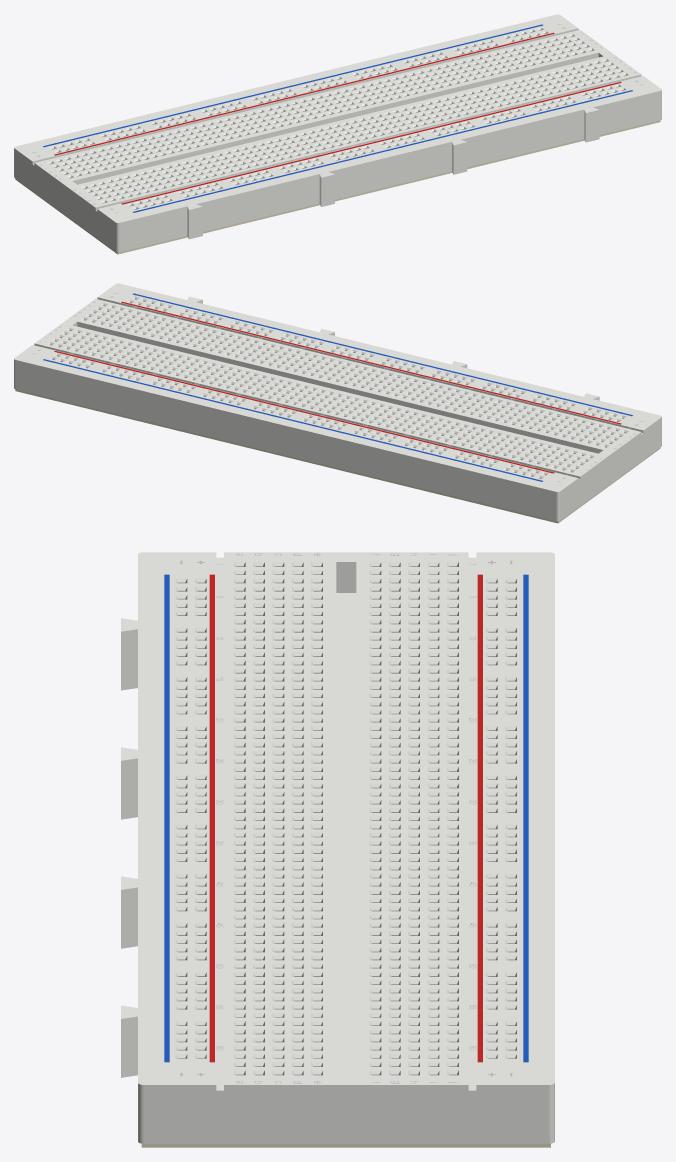
The model's file is breadboard-830.glb.
3 renders of one model, top to bottom at view 1: azimuth 30°, elevation 25°; view 2: azimuth 150°, elevation 25°; view 3: azimuth 270°, elevation 25°, orthographic. The views are drawn at different scales.
Parts seen in each view (by area): view 1: breadboard_body, clips, adhesive, stripe_bot_minus, stripe_top_minus, stripe_top_plus, stripe_bot_plus; view 2: breadboard_body, clips, adhesive, stripe_top_minus, stripe_top_plus, stripe_bot_plus, stripe_bot_minus; view 3: breadboard_body, clips, stripe_top_minus, stripe_bot_minus, stripe_top_plus, stripe_bot_plus, adhesive, print_labels.
Part boxes in pixels (left/top/right/bottom): breadboard_body: left=14, top=14, right=661, bottom=252; clips: left=50, top=30, right=625, bottom=209; adhesive: left=15, top=120, right=660, bottom=254; stripe_bot_minus: left=133, top=90, right=632, bottom=212; stripe_top_minus: left=43, top=24, right=543, bottom=147; stripe_top_plus: left=54, top=32, right=554, bottom=155; stripe_bot_plus: left=121, top=82, right=621, bottom=204; breadboard_body: left=14, top=283, right=661, bottom=521; clips: left=50, top=299, right=625, bottom=478; adhesive: left=15, top=389, right=660, bottom=523; stripe_top_minus: left=43, top=359, right=542, bottom=481; stripe_top_plus: left=54, top=351, right=554, bottom=473; stripe_bot_plus: left=121, top=301, right=621, bottom=424; stripe_bot_minus: left=132, top=293, right=632, bottom=416; breadboard_body: left=121, top=552, right=554, bottom=1143; clips: left=177, top=566, right=514, bottom=1075; stripe_top_minus: left=523, top=574, right=528, bottom=1062; stripe_bot_minus: left=164, top=574, right=169, bottom=1062; stripe_top_plus: left=477, top=574, right=482, bottom=1062; stripe_bot_plus: left=209, top=574, right=214, bottom=1062; adhesive: left=141, top=1143, right=550, bottom=1147; print_labels: left=216, top=553, right=476, bottom=1083.
Bounding box in the file's own units: 0.1651 × 0.00931 × 0.0568.
